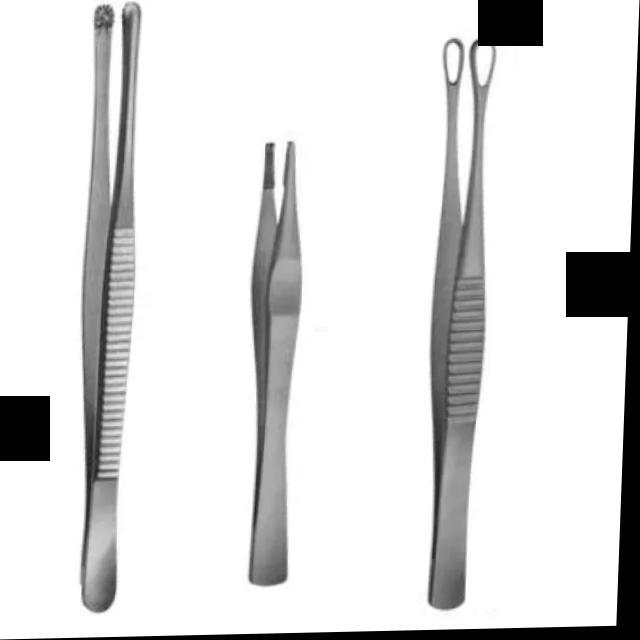Eye Intestinal Forceps: (422, 36, 503, 614)
